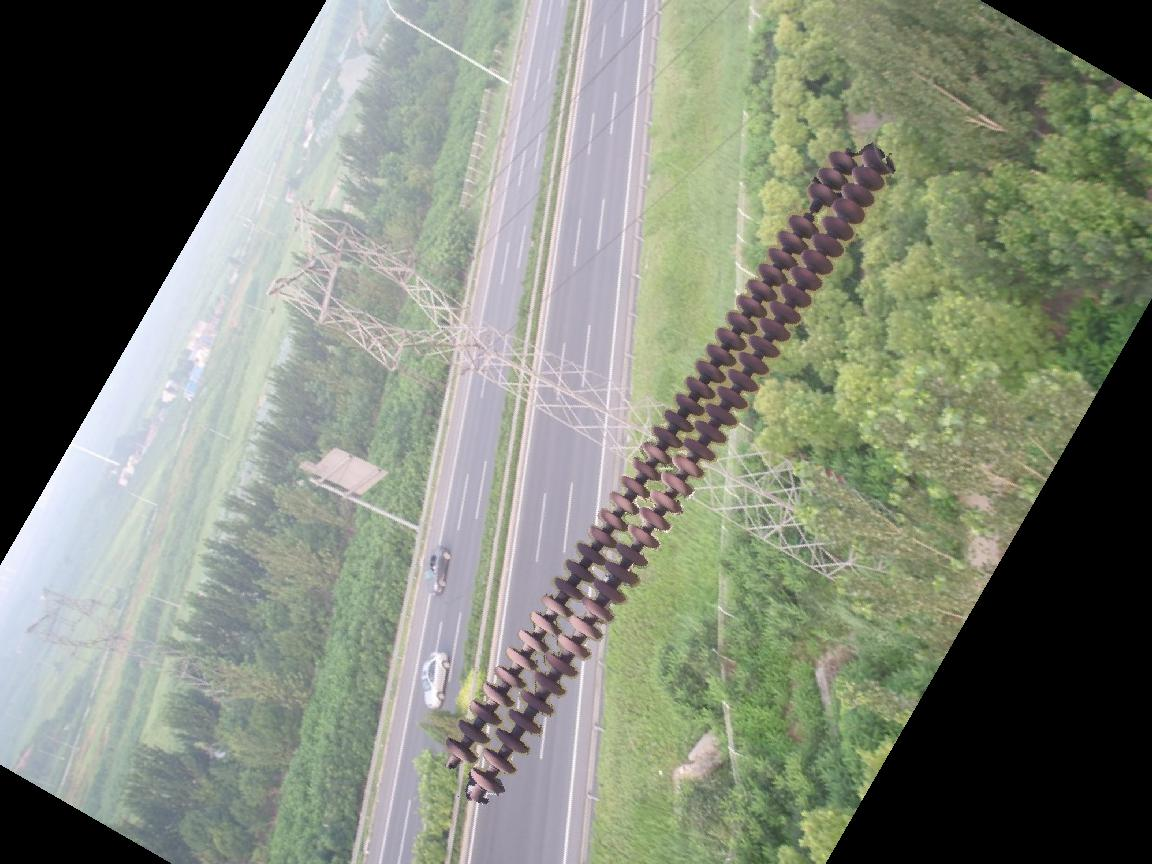insulator: (442, 139, 892, 804)
insulator_stringdrop: (786, 179, 839, 241)
